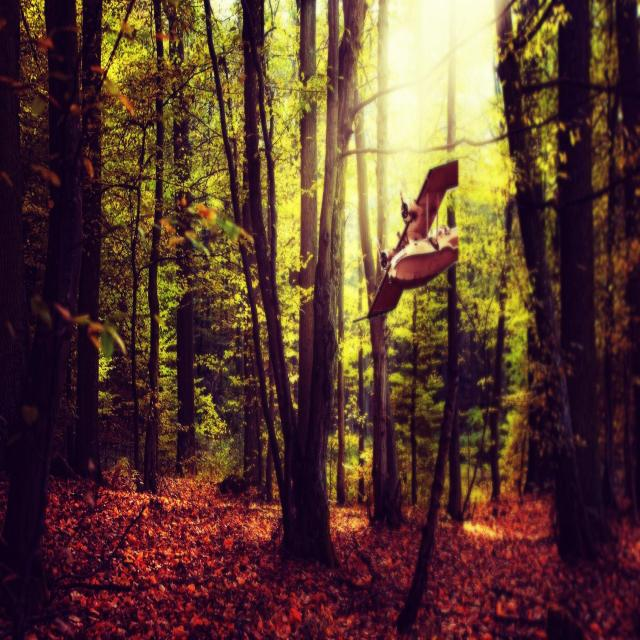airplane: (353, 158, 459, 323)
